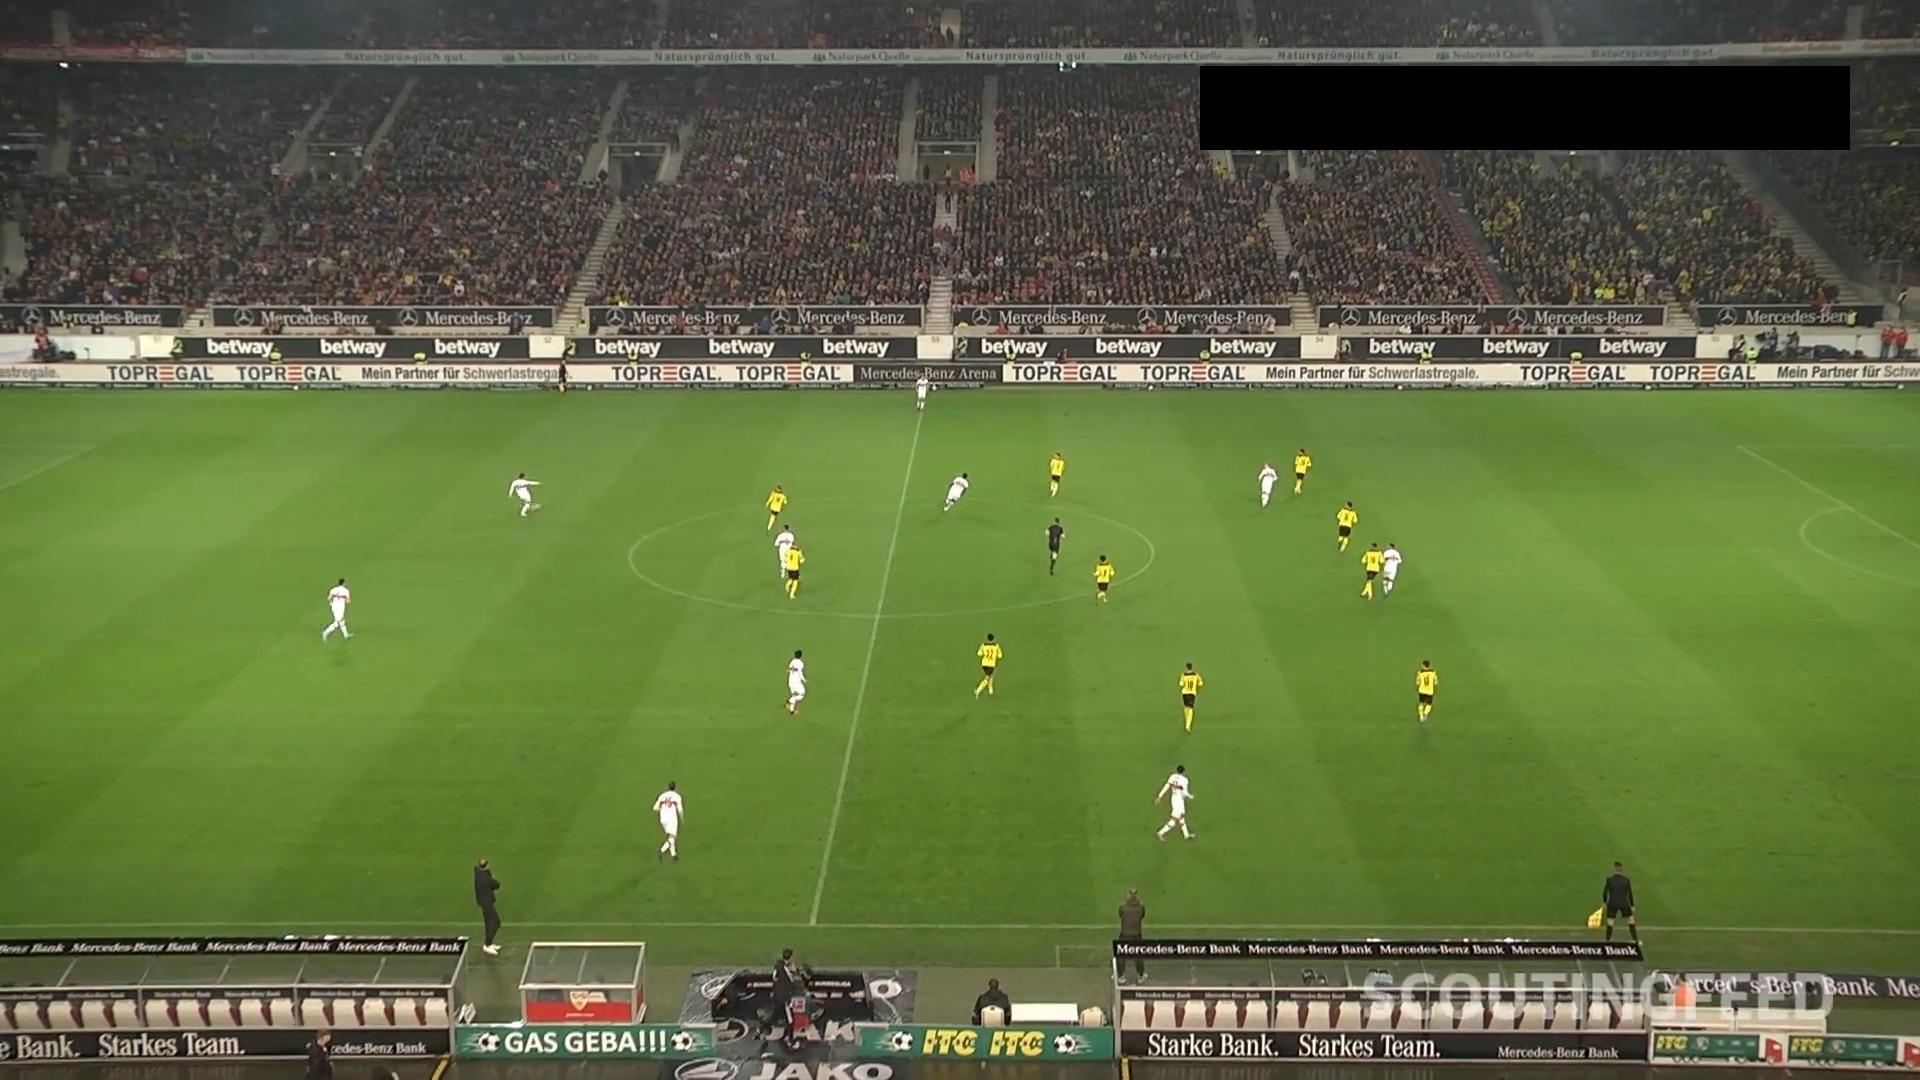ball: (531, 501, 543, 513)
